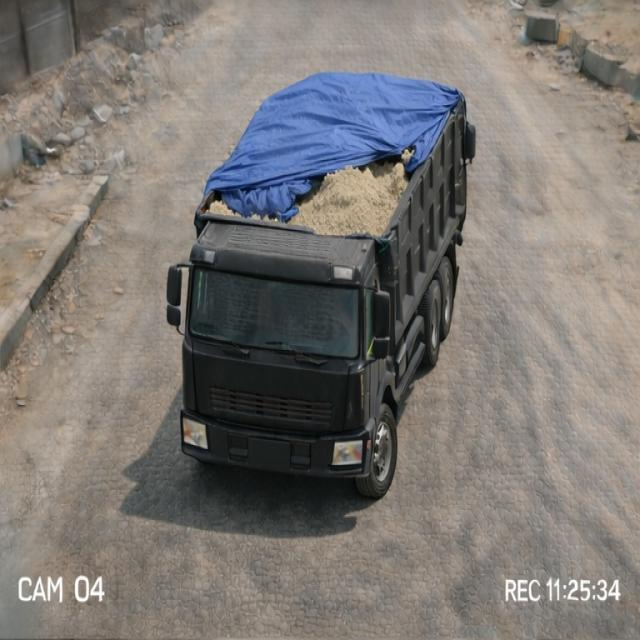Box: (198, 78, 474, 228)
Truck: (164, 54, 508, 498)
